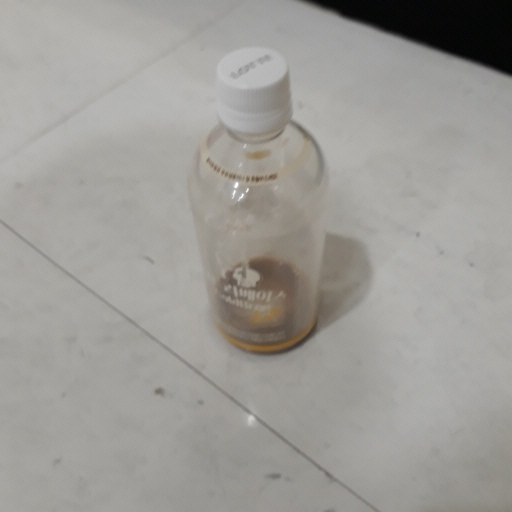Plastic_0: (189, 46, 333, 359)
